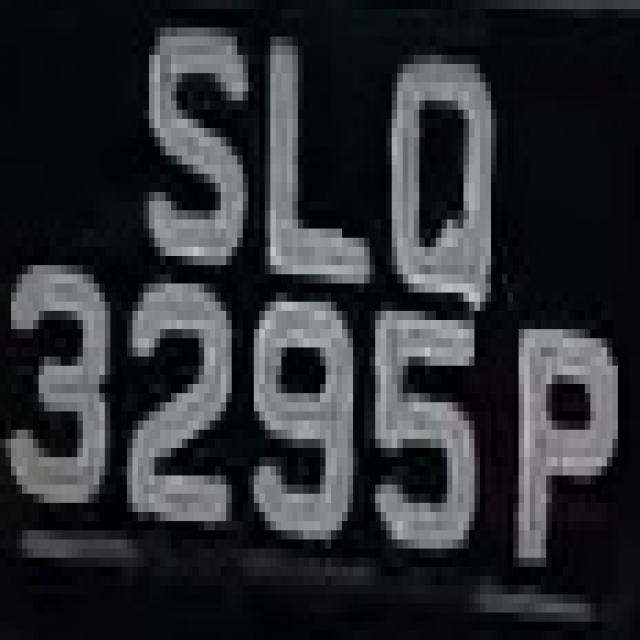2: (116, 247, 248, 548)
3: (11, 220, 121, 530)
5: (364, 265, 497, 594)
9: (232, 284, 364, 540)
L: (265, 0, 364, 329)
P: (496, 293, 624, 594)
Q: (381, 36, 518, 302)
S: (138, 18, 259, 293)
